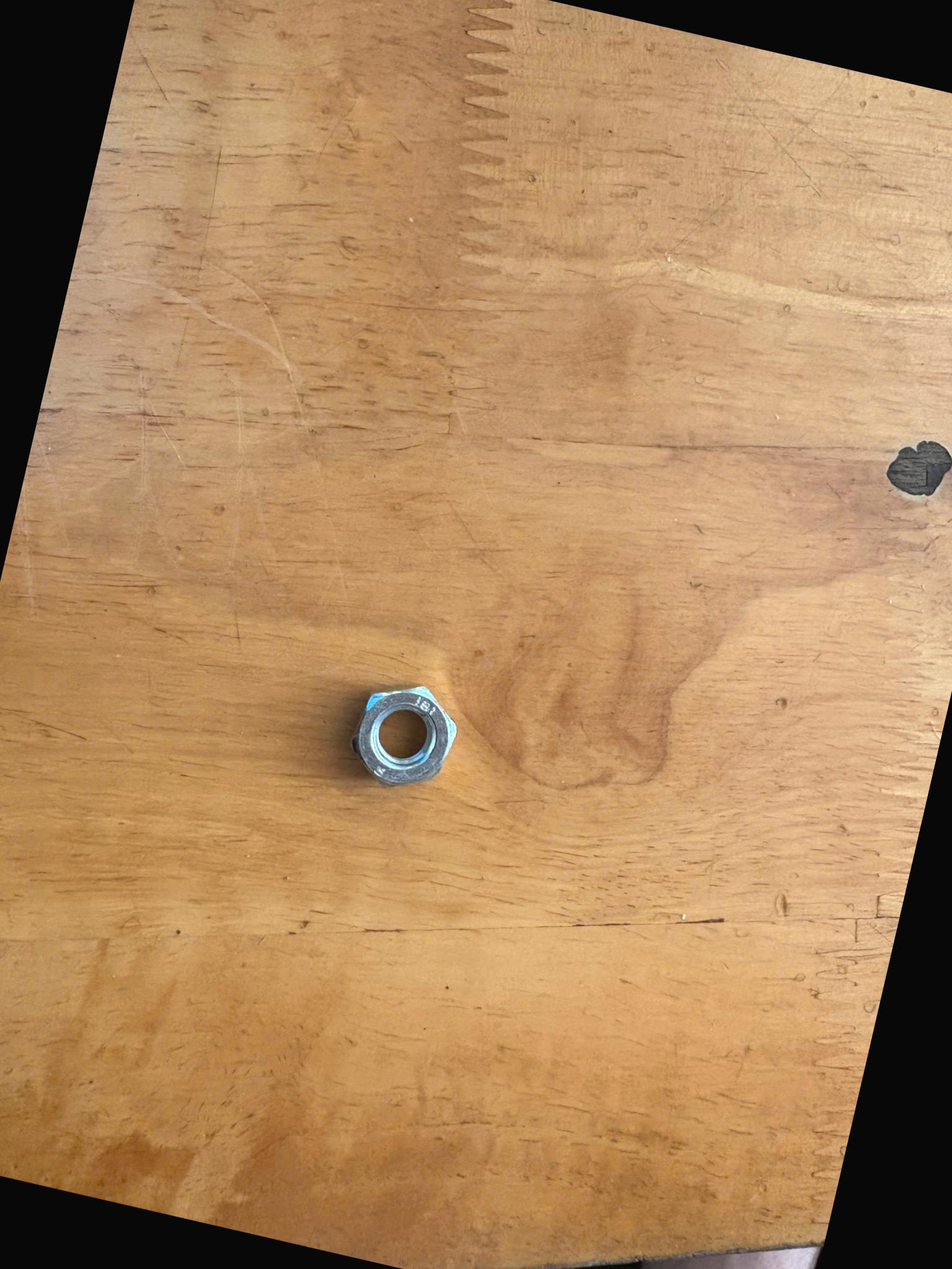nut: (333, 652, 480, 839)
